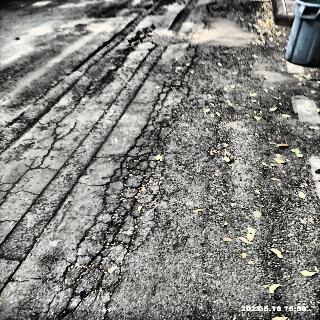alligator-crack: (57, 76, 196, 320)
